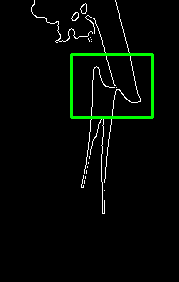fracture: (71, 54, 152, 117)
